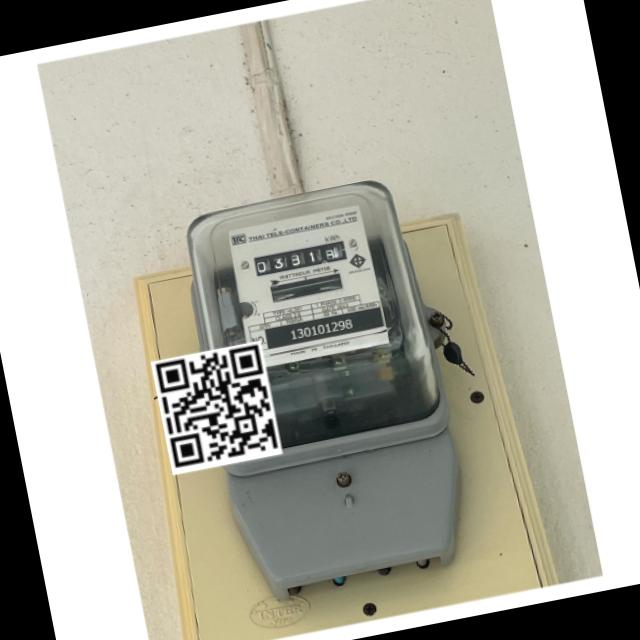qr_code: (154, 344, 282, 474)
